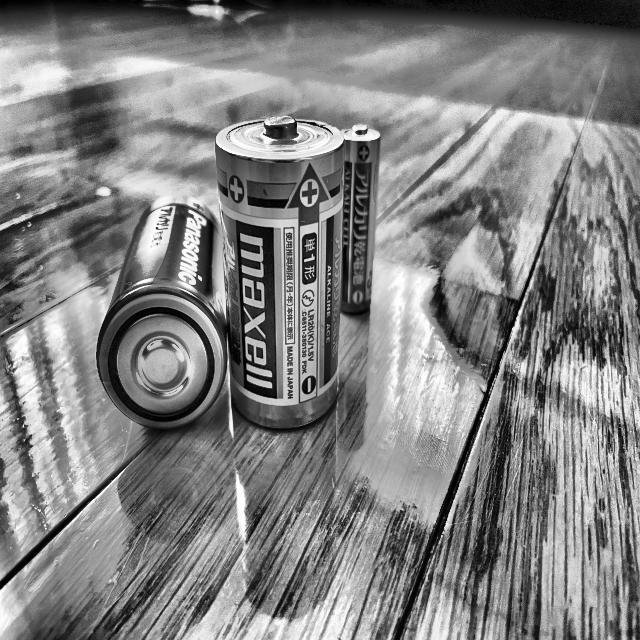drycell: (208, 111, 351, 438), (87, 187, 234, 433)
